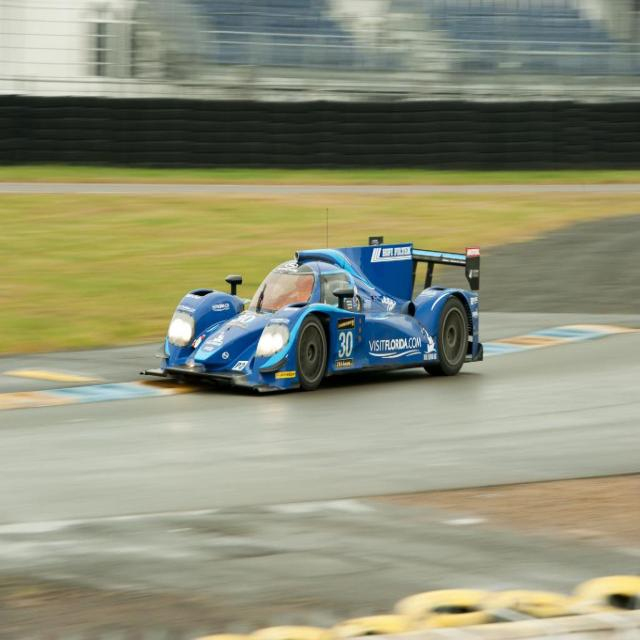car: (151, 230, 480, 398)
